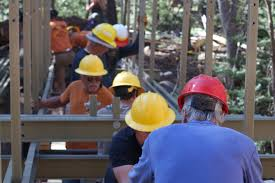Hard Hat: (175, 77, 228, 126), (124, 96, 176, 143), (74, 55, 107, 93), (108, 73, 145, 101), (85, 26, 118, 55)
Person: (128, 76, 263, 183), (33, 61, 110, 151), (104, 96, 176, 183), (71, 27, 121, 80), (97, 72, 146, 116)
